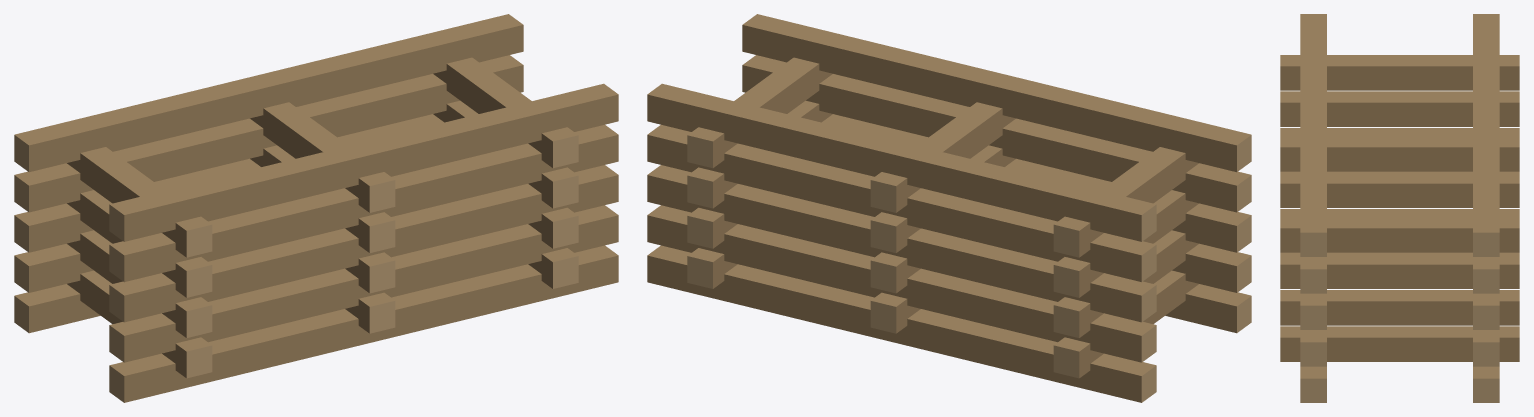
The picture shows the model from 3 angles, left to right: view 1: azimuth 30°, elevation 25°; view 2: azimuth 150°, elevation 25°; view 3: azimuth 270°, elevation 25°; orthographic projection. The views are drawn at different scales.
Parts seen in each view (by area): view 1: WholeNotchedLongitudinalCourse9Beam2, WholeNotchedLongitudinalCourse9Beam1, WholeNotchedLongitudinalCourse1Beam1, WholeNotchedLongitudinalCourse5Beam1, WholeNotchedLongitudinalCourse3Beam1, WholeNotchedLongitudinalCourse7Beam1, WholeNotchedLongitudinalCourse7Beam2, WholeNotchedLongitudinalCourse5Beam2, WholeNotchedTransverseCourse8Beam2, WholeNotchedTransverseCourse8Beam3, WholeNotchedTransverseCourse8Beam1, WholeNotchedLongitudinalCourse1Beam2 (+10 smaller); view 2: WholeNotchedLongitudinalCourse9Beam1, WholeNotchedLongitudinalCourse9Beam2, WholeNotchedLongitudinalCourse1Beam2, WholeNotchedLongitudinalCourse5Beam2, WholeNotchedLongitudinalCourse3Beam2, WholeNotchedLongitudinalCourse7Beam2, WholeNotchedLongitudinalCourse7Beam1, WholeNotchedLongitudinalCourse5Beam1, WholeNotchedTransverseCourse8Beam2, WholeNotchedTransverseCourse8Beam3, WholeNotchedTransverseCourse8Beam1, WholeNotchedLongitudinalCourse1Beam1 (+10 smaller); view 3: WholeNotchedTransverseCourse2Beam3, WholeNotchedTransverseCourse4Beam3, WholeNotchedTransverseCourse6Beam1, WholeNotchedTransverseCourse6Beam2, WholeNotchedTransverseCourse6Beam3, WholeNotchedTransverseCourse8Beam1, WholeNotchedTransverseCourse8Beam2, WholeNotchedTransverseCourse8Beam3, WholeNotchedLongitudinalCourse9Beam1, WholeNotchedLongitudinalCourse9Beam2, WholeNotchedTransverseCourse4Beam1, WholeNotchedTransverseCourse4Beam2 (+10 smaller).
Boxes of the visible parts, bbox=[...] form: WholeNotchedLongitudinalCourse9Beam2: bbox=[14, 14, 523, 172]; WholeNotchedLongitudinalCourse9Beam1: bbox=[109, 83, 618, 241]; WholeNotchedLongitudinalCourse1Beam1: bbox=[109, 245, 618, 402]; WholeNotchedLongitudinalCourse5Beam1: bbox=[109, 165, 618, 322]; WholeNotchedLongitudinalCourse3Beam1: bbox=[109, 205, 618, 362]; WholeNotchedLongitudinalCourse7Beam1: bbox=[109, 124, 618, 282]; WholeNotchedLongitudinalCourse7Beam2: bbox=[14, 55, 523, 212]; WholeNotchedLongitudinalCourse5Beam2: bbox=[14, 114, 443, 252]; WholeNotchedTransverseCourse8Beam2: bbox=[250, 102, 395, 212]; WholeNotchedTransverseCourse8Beam3: bbox=[433, 57, 578, 168]; WholeNotchedTransverseCourse8Beam1: bbox=[67, 147, 212, 257]; WholeNotchedLongitudinalCourse1Beam2: bbox=[14, 284, 100, 333]; WholeNotchedLongitudinalCourse9Beam1: bbox=[742, 14, 1251, 172]; WholeNotchedLongitudinalCourse9Beam2: bbox=[647, 83, 1156, 241]; WholeNotchedLongitudinalCourse1Beam2: bbox=[647, 245, 1156, 402]; WholeNotchedLongitudinalCourse5Beam2: bbox=[647, 165, 1156, 322]; WholeNotchedLongitudinalCourse3Beam2: bbox=[647, 205, 1156, 362]; WholeNotchedLongitudinalCourse7Beam2: bbox=[647, 124, 1156, 282]; WholeNotchedLongitudinalCourse7Beam1: bbox=[742, 55, 1251, 212]; WholeNotchedLongitudinalCourse5Beam1: bbox=[822, 114, 1251, 252]; WholeNotchedTransverseCourse8Beam2: bbox=[870, 102, 1015, 212]; WholeNotchedTransverseCourse8Beam3: bbox=[687, 57, 832, 168]; WholeNotchedTransverseCourse8Beam1: bbox=[1053, 147, 1198, 257]; WholeNotchedLongitudinalCourse1Beam1: bbox=[1165, 284, 1251, 333]; WholeNotchedTransverseCourse2Beam3: bbox=[1280, 326, 1519, 361]; WholeNotchedTransverseCourse4Beam3: bbox=[1280, 290, 1519, 325]; WholeNotchedTransverseCourse6Beam1: bbox=[1280, 91, 1519, 126]; WholeNotchedTransverseCourse6Beam2: bbox=[1280, 172, 1519, 207]; WholeNotchedTransverseCourse6Beam3: bbox=[1280, 253, 1519, 288]; WholeNotchedTransverseCourse8Beam1: bbox=[1280, 55, 1519, 90]; WholeNotchedTransverseCourse8Beam2: bbox=[1280, 136, 1519, 171]; WholeNotchedTransverseCourse8Beam3: bbox=[1280, 217, 1519, 252]; WholeNotchedLongitudinalCourse9Beam1: bbox=[1300, 14, 1326, 256]; WholeNotchedLongitudinalCourse9Beam2: bbox=[1473, 14, 1499, 256]; WholeNotchedTransverseCourse4Beam1: bbox=[1280, 128, 1519, 135]; WholeNotchedTransverseCourse4Beam2: bbox=[1280, 209, 1519, 216].
Bounding box in the file's own units: 5.4 × 1.96 × 2.5.
